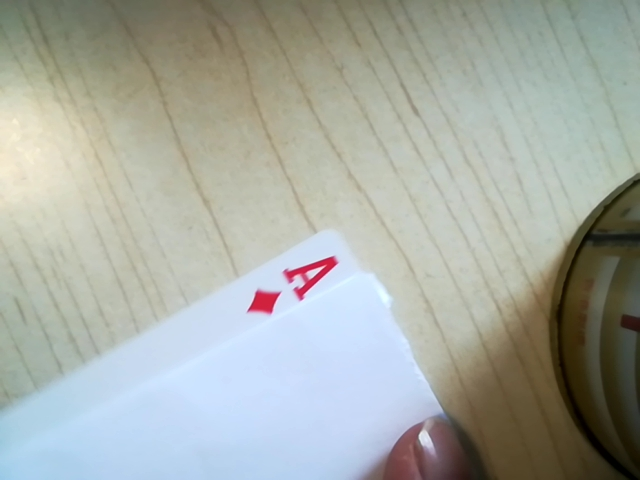fk a: (236, 251, 349, 322)
